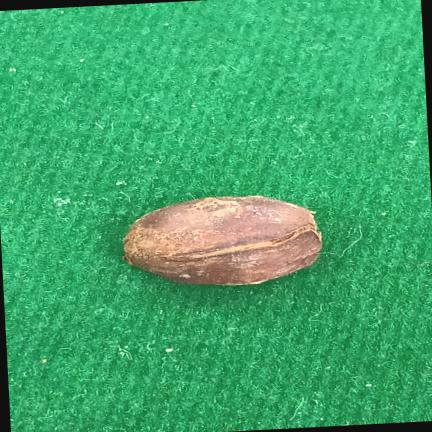husk: (124, 196, 322, 285)
